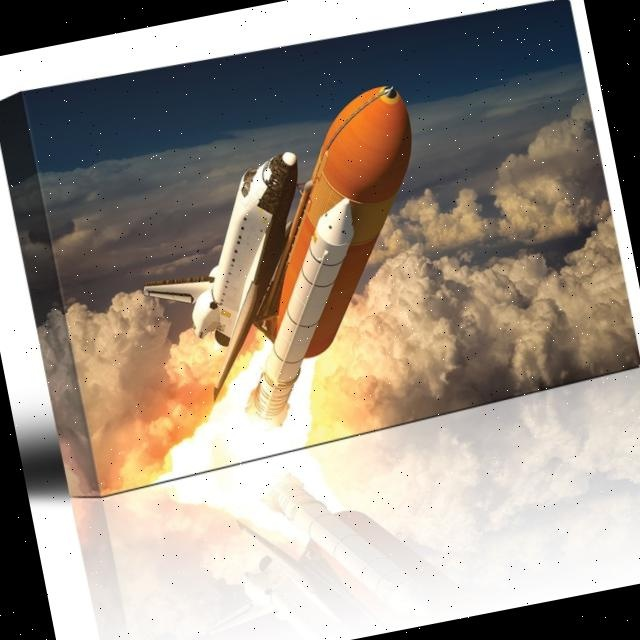rocket: (108, 147, 352, 373)
